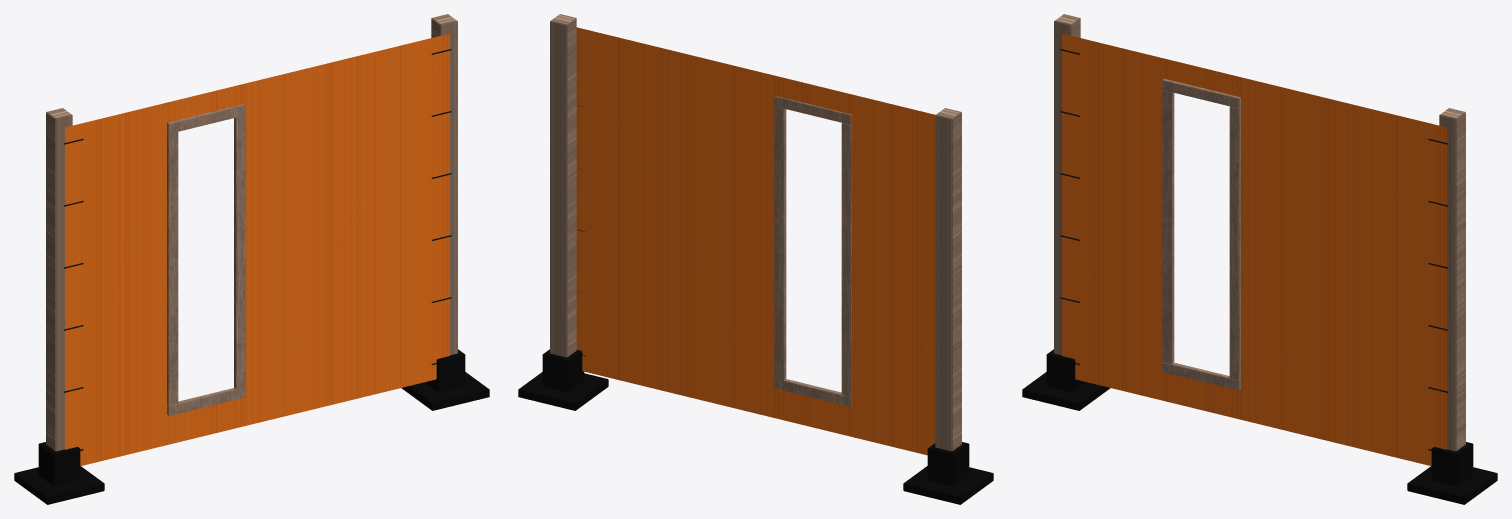
Rendered from obj_mesh_wall_port.glb.
The picture shows the model from 3 angles, left to right: view 1: azimuth 30°, elevation 25°; view 2: azimuth 150°, elevation 25°; view 3: azimuth 330°, elevation 25°; orthographic projection.
Visible parts, largest first — view 1: mesh, mesh_wall_port_body; view 2: mesh, mesh_wall_port_body; view 3: mesh, mesh_wall_port_body.
Part boxes in pixels (x1,y1,x2,y2): mesh: [65, 33, 449, 466]; mesh_wall_port_body: [14, 14, 489, 504]; mesh: [576, 27, 935, 455]; mesh_wall_port_body: [518, 14, 993, 504]; mesh: [1062, 33, 1446, 466]; mesh_wall_port_body: [1022, 14, 1497, 504].
Size of the model in its own units: 2.3 by 1.85 by 0.3.
3 materials, 2 textured.
